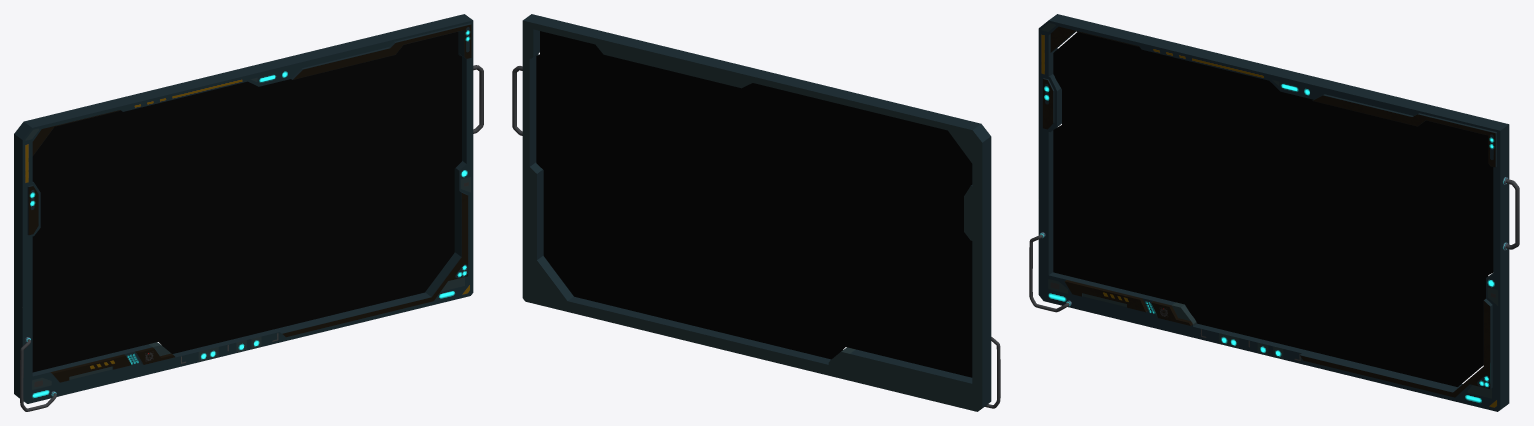
3 renders of one model, left to right at view 1: azimuth 30°, elevation 25°; view 2: azimuth 150°, elevation 25°; view 3: azimuth 330°, elevation 25°, orthographic. The views are drawn at different scales.
Parts seen in each view (by area): view 1: Display, Main; view 2: Display, Main; view 3: Display, Main.
Part boxes in pixels (bbox=[...]): Display: bbox=[32, 32, 461, 372]; Main: bbox=[14, 14, 483, 411]; Display: bbox=[536, 31, 972, 377]; Main: bbox=[512, 14, 1000, 411]; Display: bbox=[1053, 32, 1493, 386]; Main: bbox=[1029, 14, 1519, 411].
Size of the model in its own units: 0.5592 by 0.3175 by 0.0263.
Materials: 2 (1 with a texture image).
